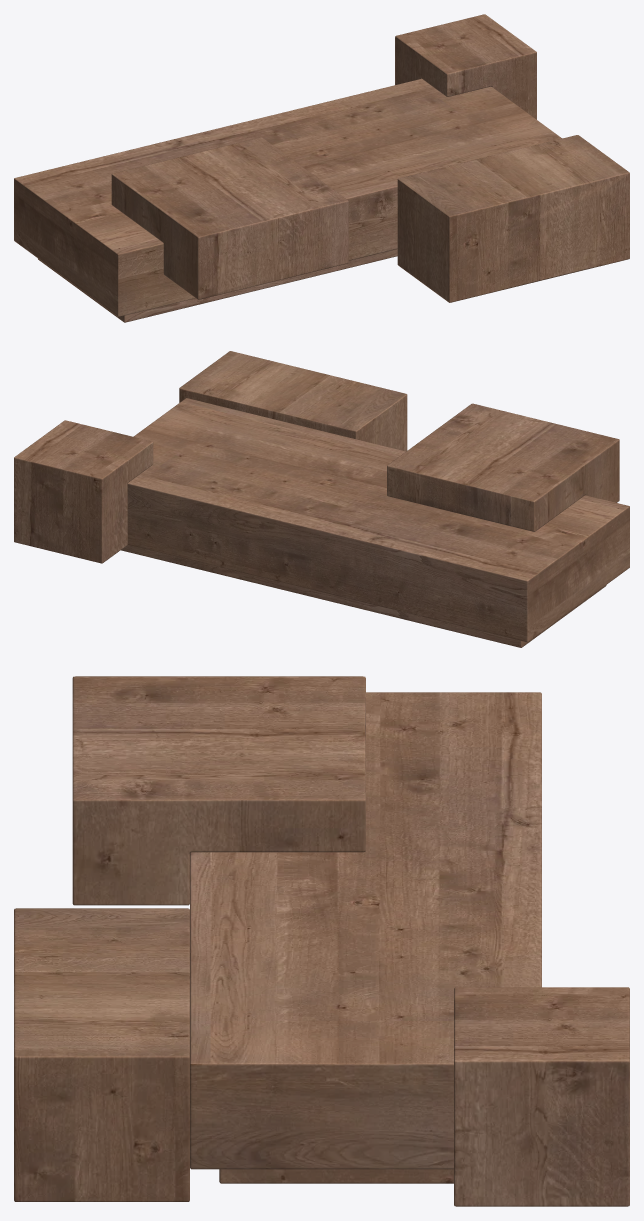
Rendered from coffee_table_3.glb.
3 renders of one model, top to bottom at view 1: azimuth 30°, elevation 25°; view 2: azimuth 150°, elevation 25°; view 3: azimuth 270°, elevation 25°, orthographic. The views are drawn at different scales.
Visible parts, largest first — view 1: 3dfurnituregallery_free_3d_model_003_hazel_165x105x35_cm_0; view 2: 3dfurnituregallery_free_3d_model_003_hazel_165x105x35_cm_0; view 3: 3dfurnituregallery_free_3d_model_003_hazel_165x105x35_cm_0.
Part boxes in pixels (x1,y1,x2,y2): 3dfurnituregallery_free_3d_model_003_hazel_165x105x35_cm_0: (14, 14, 629, 322); 3dfurnituregallery_free_3d_model_003_hazel_165x105x35_cm_0: (14, 351, 629, 647); 3dfurnituregallery_free_3d_model_003_hazel_165x105x35_cm_0: (14, 676, 629, 1206).
Size of the model in its own units: 1.65 by 0.3499 by 1.05.
1 material, 1 textured.
